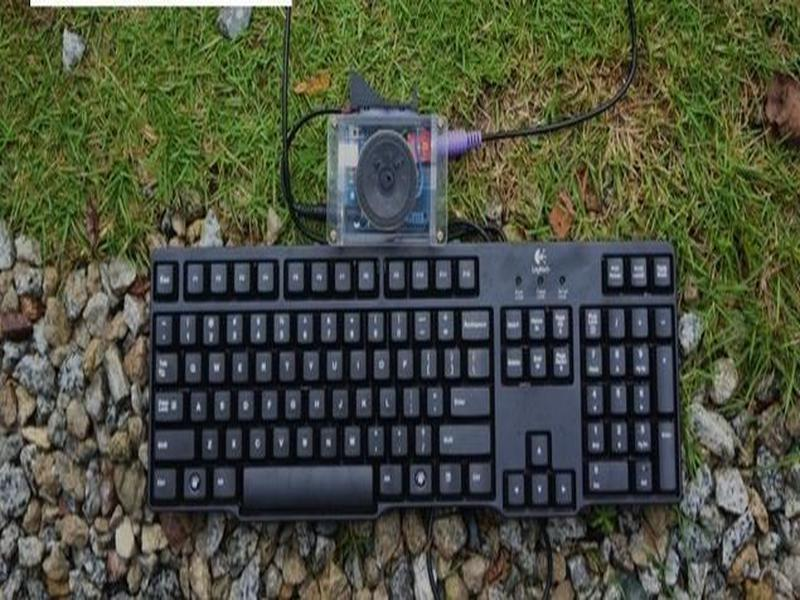keyboard: (140, 238, 694, 522)
